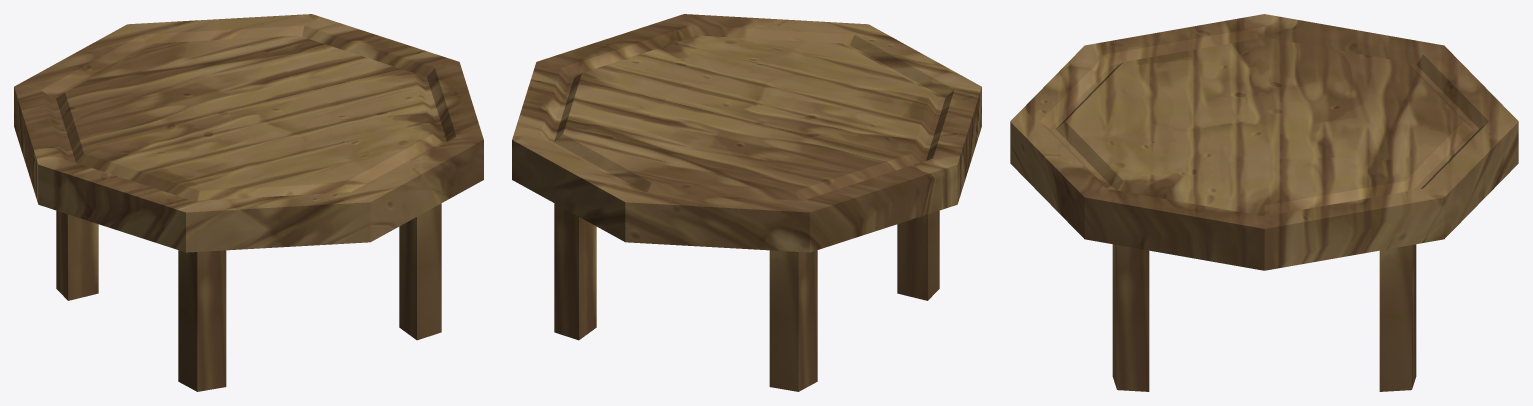
The model's file is table.fbx.
The picture shows the model from 3 angles, left to right: view 1: azimuth 30°, elevation 25°; view 2: azimuth 150°, elevation 25°; view 3: azimuth 270°, elevation 25°; orthographic projection. The views are drawn at different scales.
Parts seen in each view (by area): view 1: table; view 2: table; view 3: table.
Part boxes in pixels (left/top/right/bottom): table: left=14, top=14, right=483, bottom=391; table: left=512, top=14, right=981, bottom=391; table: left=1010, top=14, right=1518, bottom=391.
Size of the model in its own units: 164 by 73.43 by 164.
